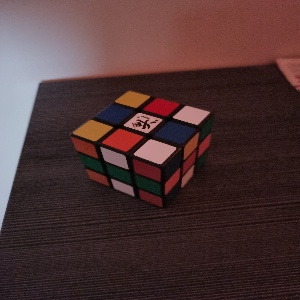cube: (70, 91, 214, 207)
